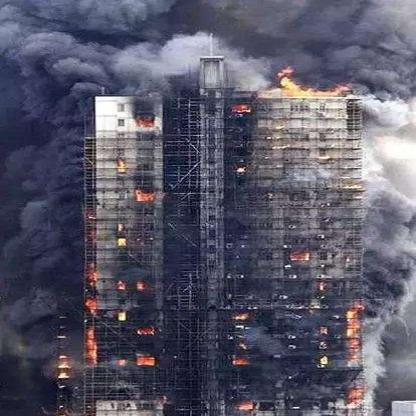fire: (76, 98, 186, 404), (225, 244, 371, 410), (216, 63, 363, 118), (52, 311, 81, 400)
smoke: (11, 1, 400, 102), (1, 85, 74, 362), (342, 48, 406, 347)
